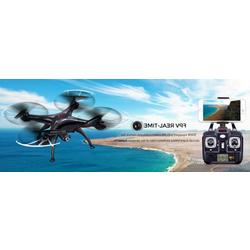drone: (3, 89, 123, 163)
